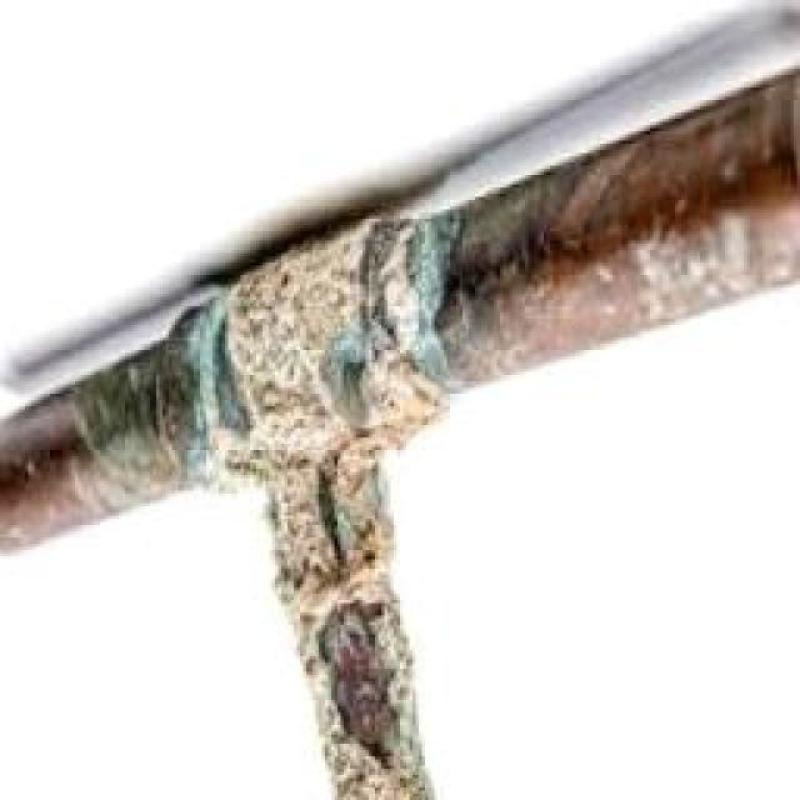corrosion: (198, 237, 439, 477), (262, 504, 415, 773)
